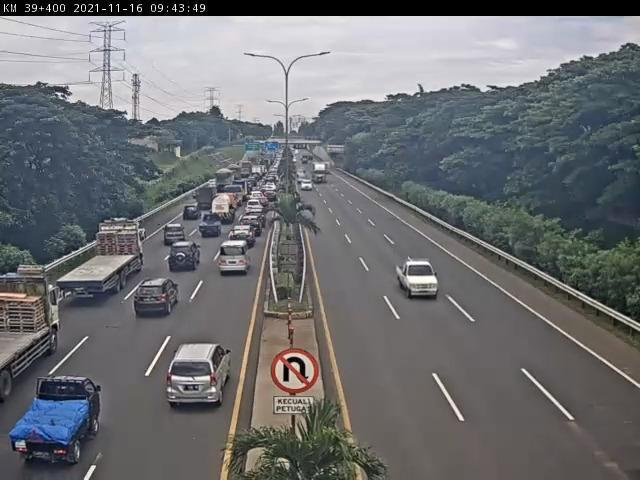car: (14, 376, 101, 463), (169, 344, 234, 408), (134, 278, 182, 320), (394, 258, 441, 300), (220, 241, 255, 279), (168, 244, 200, 276), (200, 213, 224, 238), (231, 227, 255, 252), (164, 225, 188, 245), (241, 216, 263, 236), (249, 209, 269, 225), (247, 200, 265, 214), (185, 205, 198, 221), (249, 193, 265, 202), (302, 181, 313, 190)
truck: (51, 223, 143, 299), (1, 277, 61, 388), (212, 196, 235, 226), (211, 170, 233, 197), (193, 187, 217, 211), (226, 185, 245, 206), (310, 160, 326, 182)
